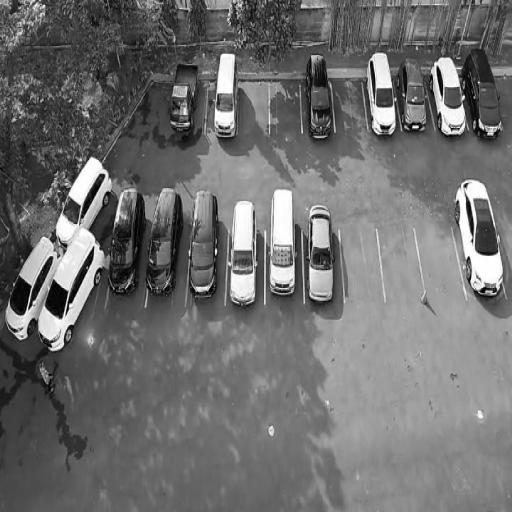Car: (31, 218, 110, 359), (0, 226, 64, 355), (47, 145, 119, 253), (450, 173, 509, 300), (456, 42, 507, 146), (264, 178, 300, 310), (106, 186, 146, 300), (144, 185, 183, 301), (186, 180, 220, 304), (226, 192, 262, 309), (425, 53, 471, 140), (361, 47, 401, 143), (304, 196, 336, 308), (396, 54, 432, 136), (304, 49, 334, 144), (165, 58, 200, 139), (211, 48, 241, 140)
Space Available: (416, 225, 466, 300), (376, 227, 425, 302), (339, 224, 385, 303), (331, 78, 368, 132), (236, 77, 270, 134), (269, 79, 302, 134)
